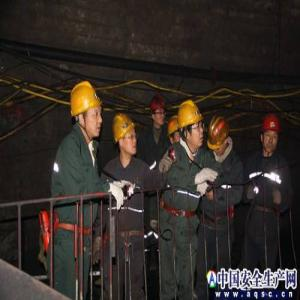red: (262, 113, 281, 154), (151, 95, 168, 128)
yellow: (72, 81, 104, 138), (179, 101, 206, 150), (115, 114, 141, 159), (207, 113, 231, 158), (169, 116, 182, 145)
